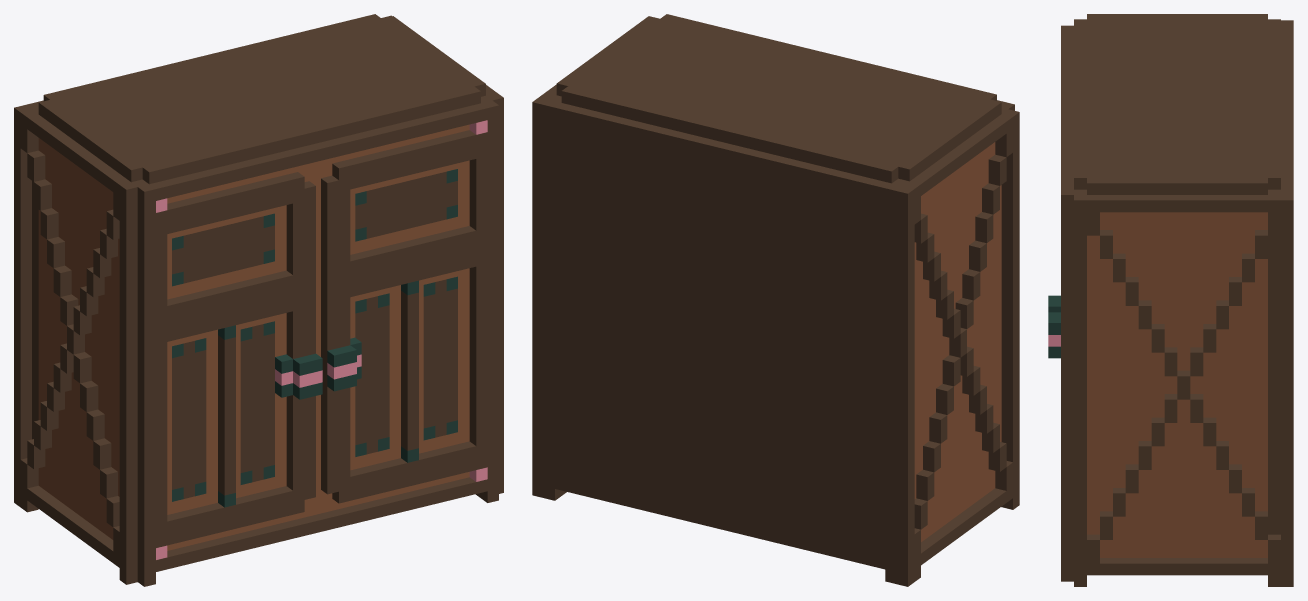
The model's file is prop_wardrobe_light_brown.glb.
3 views of the same model, side by side, from view 1: azimuth 30°, elevation 25°; view 2: azimuth 150°, elevation 25°; view 3: azimuth 270°, elevation 25° (orthographic). The views are drawn at different scales.
Parts seen in each view (by area): view 1: prop_wardrobe_light_brown; view 2: prop_wardrobe_light_brown; view 3: prop_wardrobe_light_brown.
Boxes of the visible parts, x1,y1,x2,y2 form: prop_wardrobe_light_brown: [14, 14, 503, 586]; prop_wardrobe_light_brown: [532, 14, 1019, 586]; prop_wardrobe_light_brown: [1048, 14, 1293, 586].
Bounding box in the file's own units: 3.3 × 3.4 × 1.9.
1 material, 1 textured.
